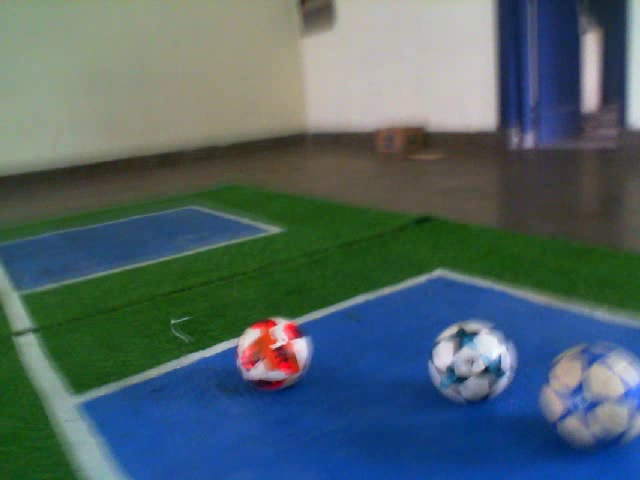ball: (534, 336, 640, 455), (425, 315, 522, 409), (232, 312, 317, 395)
